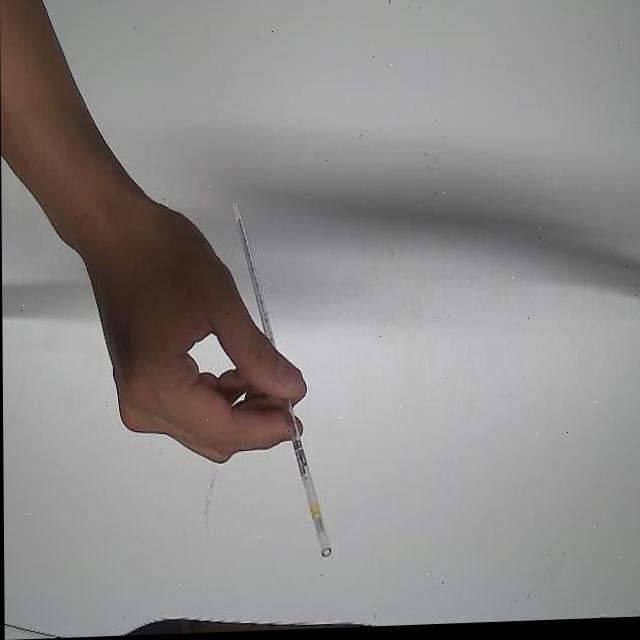Serelogical Pipet 1 mL: (225, 198, 337, 564)
